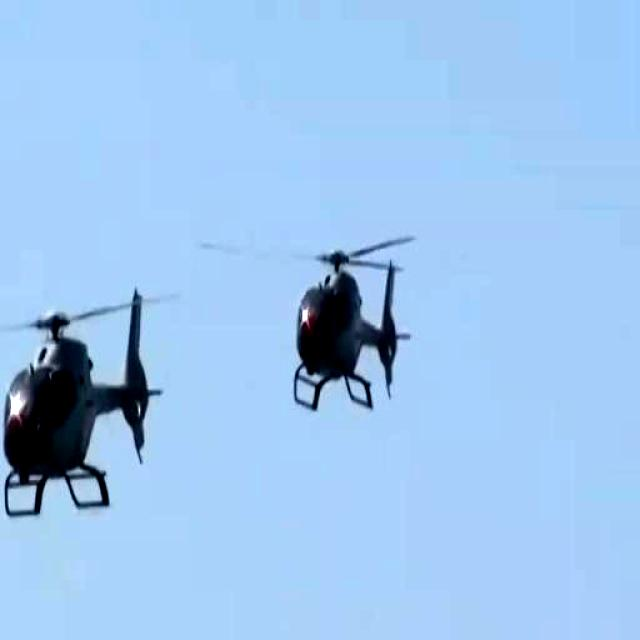drone: (0, 285, 165, 541), (258, 226, 420, 436)
